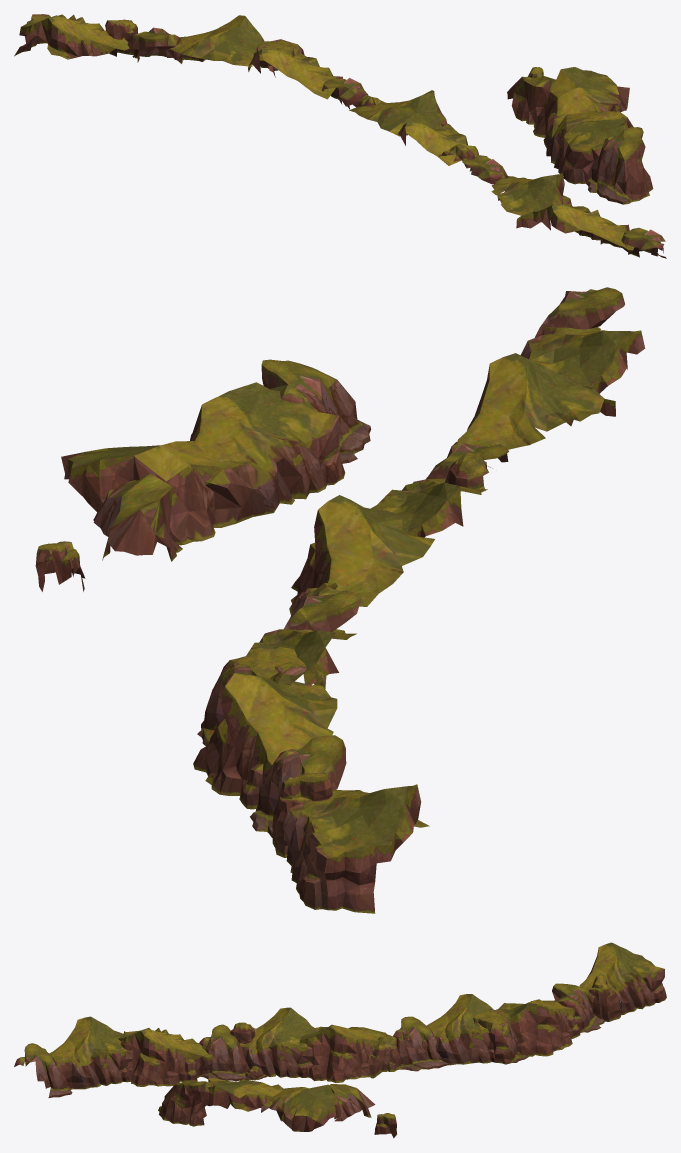
The model's file is yanshi19_1.FBX.
3 views of the same model, one above another, from view 1: azimuth 30°, elevation 25°; view 2: azimuth 150°, elevation 25°; view 3: azimuth 270°, elevation 25° (orthographic). The views are drawn at different scales.
Visible parts, largest first — view 1: yanshi19_1; view 2: yanshi19_1; view 3: yanshi19_1.
Part boxes in pixels (x1,y1,x2,y2): yanshi19_1: (14, 14, 666, 258); yanshi19_1: (35, 287, 645, 913); yanshi19_1: (14, 942, 666, 1138).
Bounding box in the file's own units: 7808 × 1253 × 13219.
